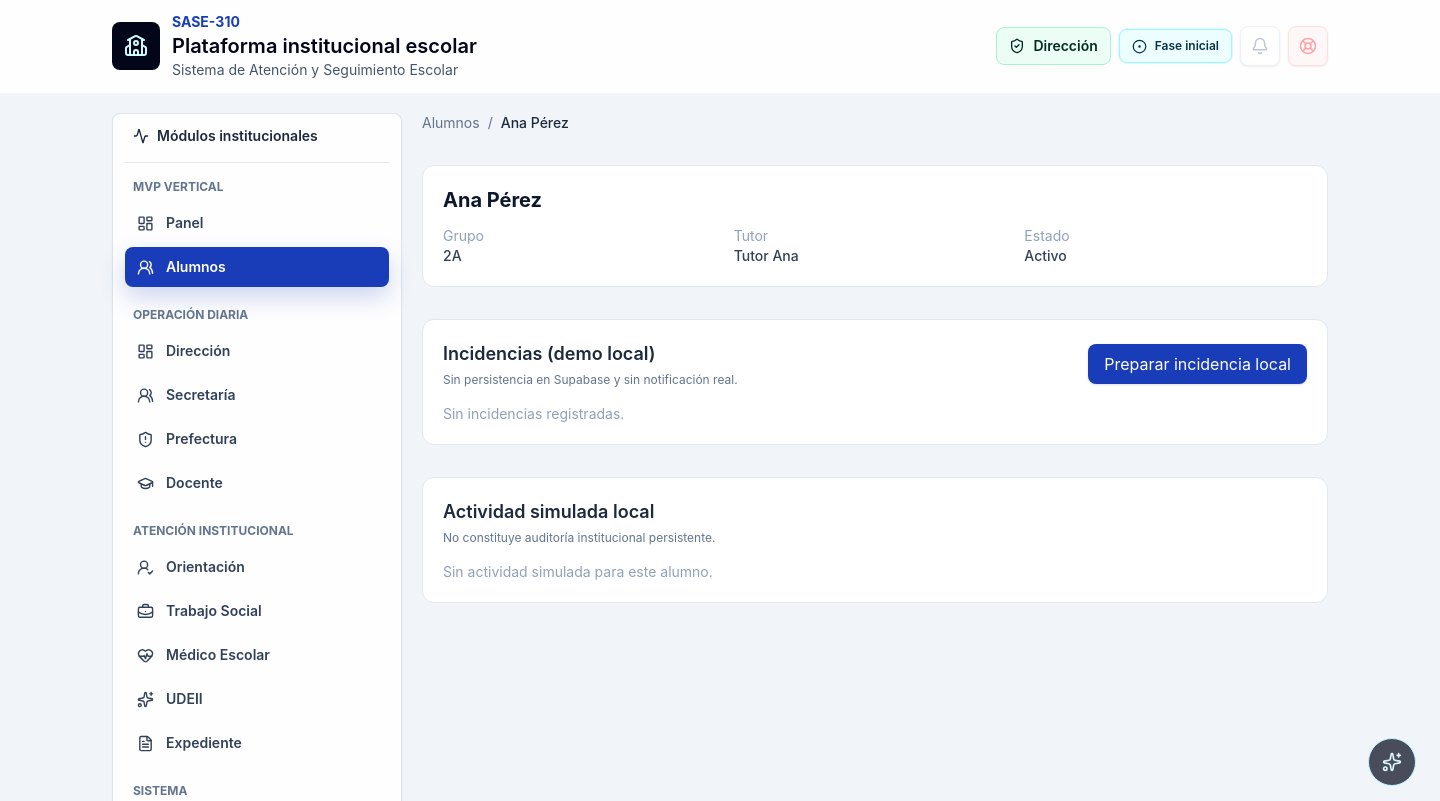
Test: App scaffold › identifies incident creation as a local non-persistent draft
Expected: the heading "Ana Pérez" is shown, [443,188,542,212]
Click the button "Preparar incidencia local": (1198, 364) [1088,344,1307,384]
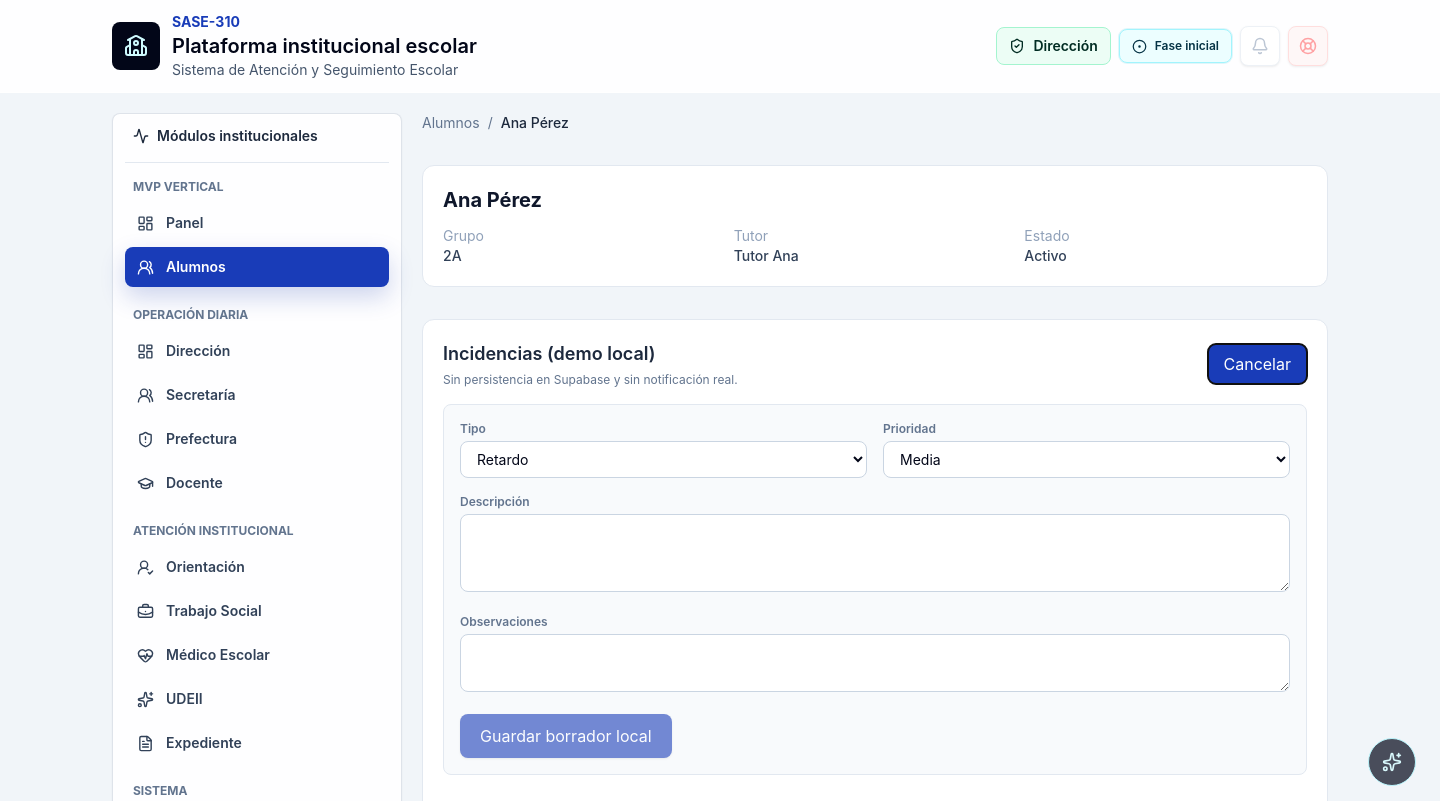
Expected: the button "Guardar borrador local" is disabled, [460,714,672,758]
In the text box labelled "Descripción": (875, 553) [460,514,1290,592], type "Incidencia de prueba local."
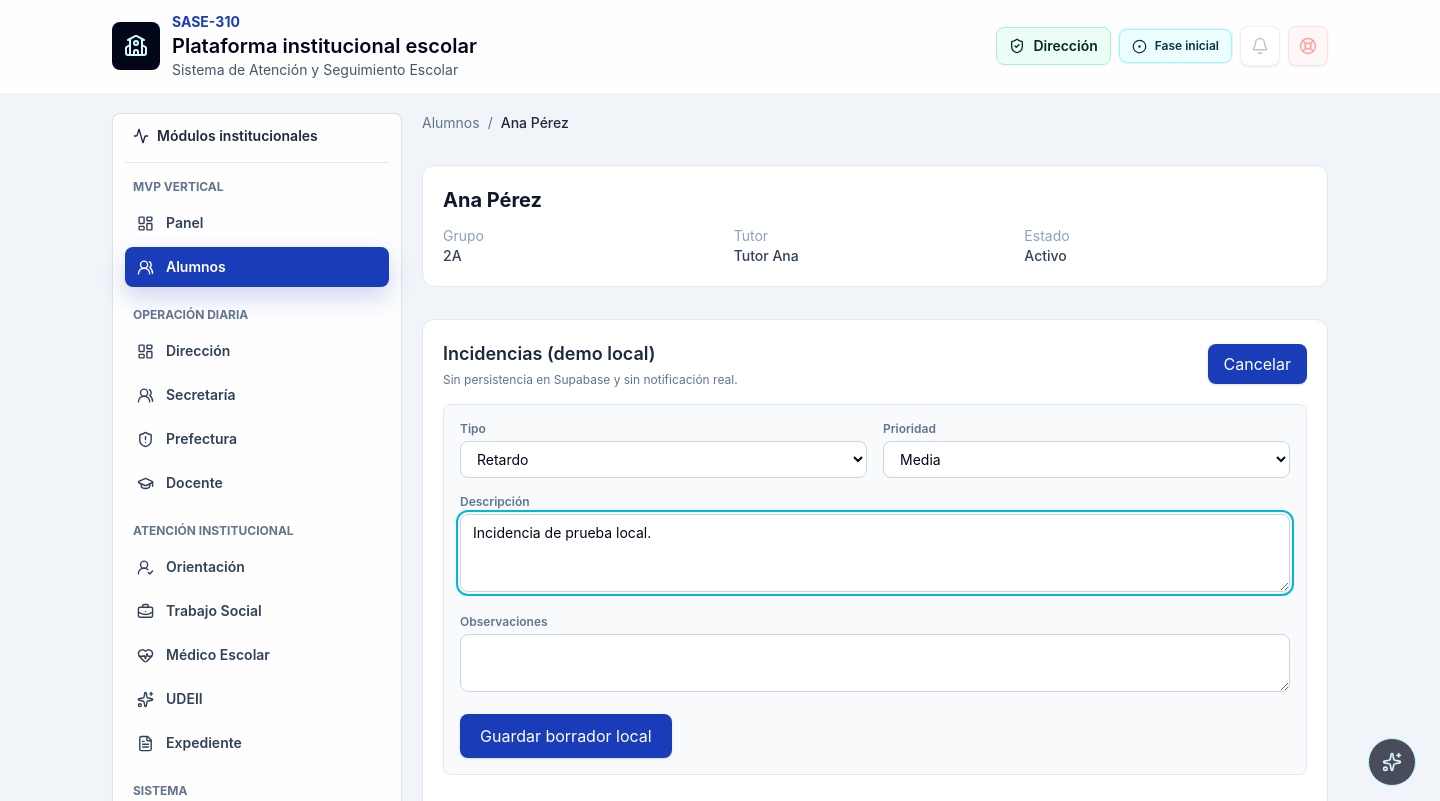
Expected: the button "Guardar borrador local" is enabled
Click the button "Guardar borrador local": (566, 736) [460,714,672,758]
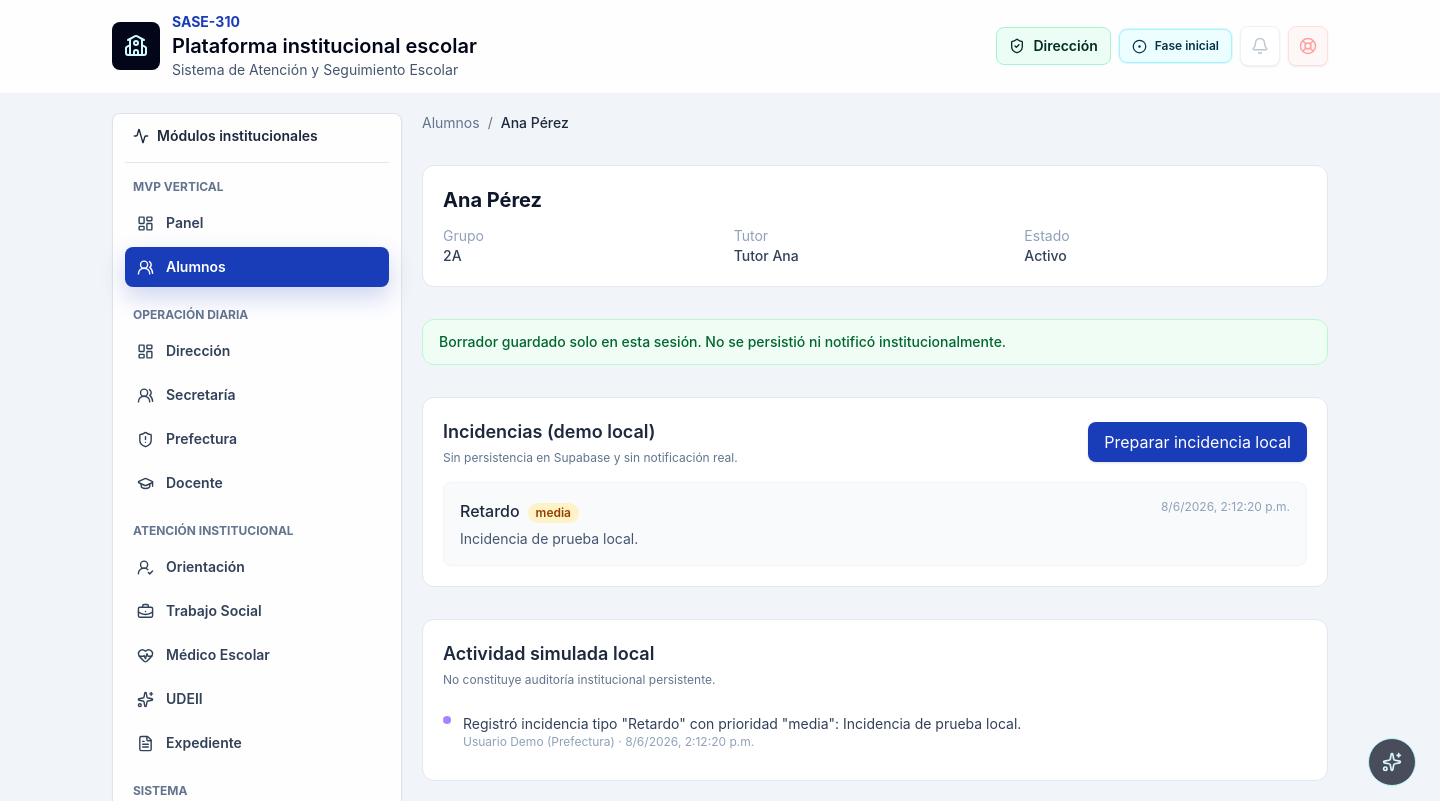
Expected: the text "Borrador guardado solo en esta sesión. No se persistió ni notificó institucionalmente." is shown, [439,333,1006,350]
